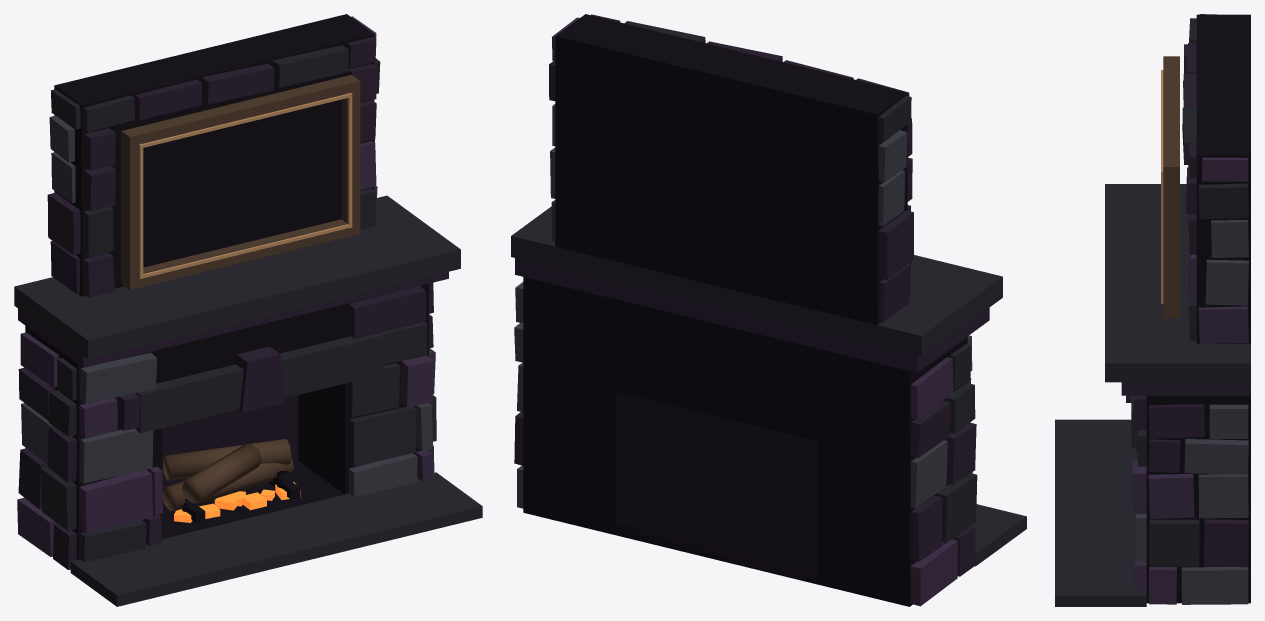
The model's file is fireplace_windmill.glb.
3 views of the same model, side by side, from view 1: azimuth 30°, elevation 25°; view 2: azimuth 150°, elevation 25°; view 3: azimuth 270°, elevation 25° (orthographic). The views are drawn at different scales.
Parts seen in each view (by area): view 1: fireplace_windmill; view 2: fireplace_windmill; view 3: fireplace_windmill.
Boxes of the visible parts, <box> form: fireplace_windmill: <box>14,14,482,606</box>; fireplace_windmill: <box>511,14,1026,606</box>; fireplace_windmill: <box>1055,14,1250,606</box>.
Bounding box in the file's own units: 1.02 × 1.15 × 0.47.
